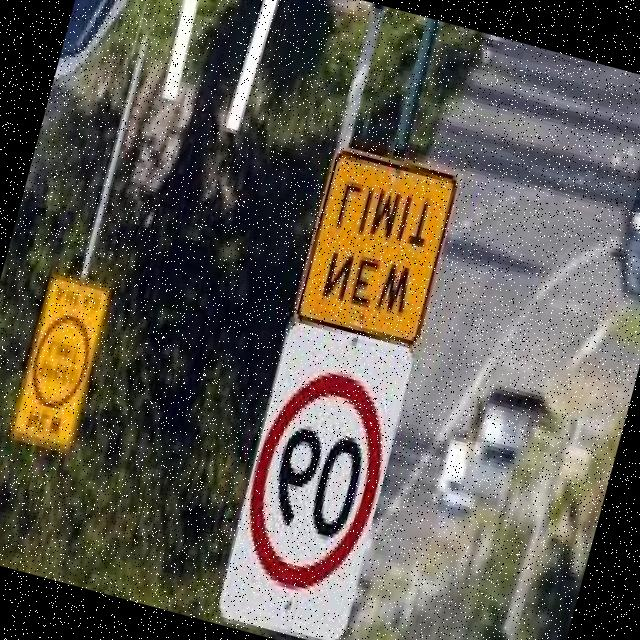speed_limit_60: (232, 360, 404, 602)
